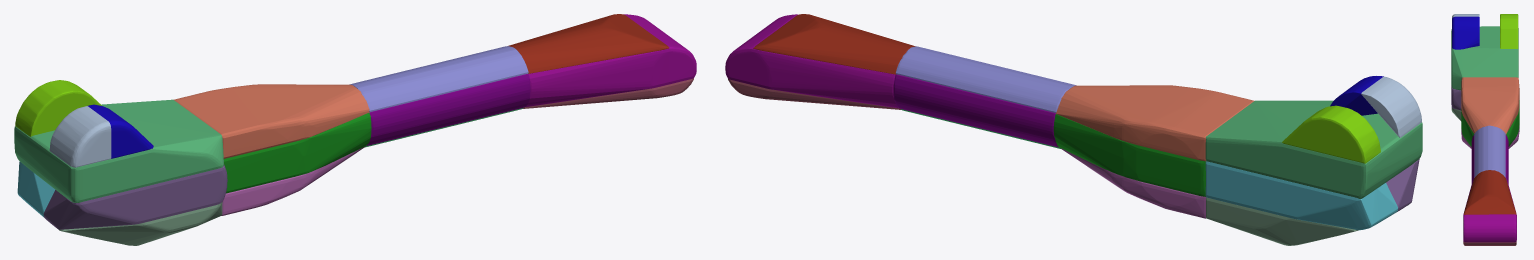
Rendered from tarsus_split.obj.
The picture shows the model from 3 angles, left to right: view 1: azimuth 30°, elevation 25°; view 2: azimuth 150°, elevation 25°; view 3: azimuth 270°, elevation 25°; orthographic projection. The views are drawn at different scales.
Visible parts, largest first — view 1: geometry_3, geometry_9, geometry_14, geometry_1, geometry_11, geometry_12, geometry_15, geometry_8, geometry_6, geometry_4, geometry_0, geometry_7 (+3 smaller); view 2: geometry_3, geometry_9, geometry_2, geometry_14, geometry_11, geometry_12, geometry_8, geometry_15, geometry_4, geometry_0, geometry_7, geometry_6 (+3 smaller); view 3: geometry_9, geometry_3, geometry_15, geometry_14, geometry_12, geometry_5, geometry_4, geometry_8, geometry_11, geometry_1, geometry_13, geometry_7 (+2 smaller).
Boxes of the visible parts, <box> form: geometry_3: <box>14,99,223,202</box>; geometry_9: <box>173,84,369,158</box>; geometry_14: <box>526,14,696,106</box>; geometry_1: <box>43,164,227,229</box>; geometry_11: <box>366,74,530,145</box>; geometry_12: <box>349,46,528,112</box>; geometry_15: <box>508,14,669,73</box>; geometry_8: <box>223,112,371,193</box>; geometry_6: <box>49,106,111,167</box>; geometry_4: <box>15,80,101,136</box>; geometry_0: <box>58,202,222,245</box>; geometry_7: <box>221,146,365,215</box>; geometry_3: <box>1205,100,1422,199</box>; geometry_9: <box>1056,85,1254,161</box>; geometry_2: <box>1205,161,1398,230</box>; geometry_14: <box>725,14,898,108</box>; geometry_11: <box>893,74,1058,147</box>; geometry_12: <box>895,46,1076,113</box>; geometry_8: <box>1053,114,1205,196</box>; geometry_15: <box>753,14,915,74</box>; geometry_4: <box>1282,105,1380,163</box>; geometry_0: <box>1206,197,1408,245</box>; geometry_7: <box>1060,148,1206,218</box>; geometry_6: <box>1361,76,1421,137</box>; geometry_9: <box>1461,77,1519,134</box>; geometry_3: <box>1451,26,1518,90</box>; geometry_15: <box>1464,170,1516,214</box>; geometry_14: <box>1463,179,1516,242</box>; geometry_12: <box>1474,125,1505,177</box>; geometry_5: <box>1452,16,1479,49</box>; geometry_4: <box>1500,14,1518,48</box>; geometry_8: <box>1461,100,1519,146</box>; geometry_11: <box>1471,135,1508,184</box>; geometry_1: <box>1451,85,1461,110</box>; geometry_13: <box>1463,241,1516,245</box>; geometry_7: <box>1461,125,1519,148</box>.
Size of the model in its own units: 0.4515 by 0.0977 by 0.0735.
